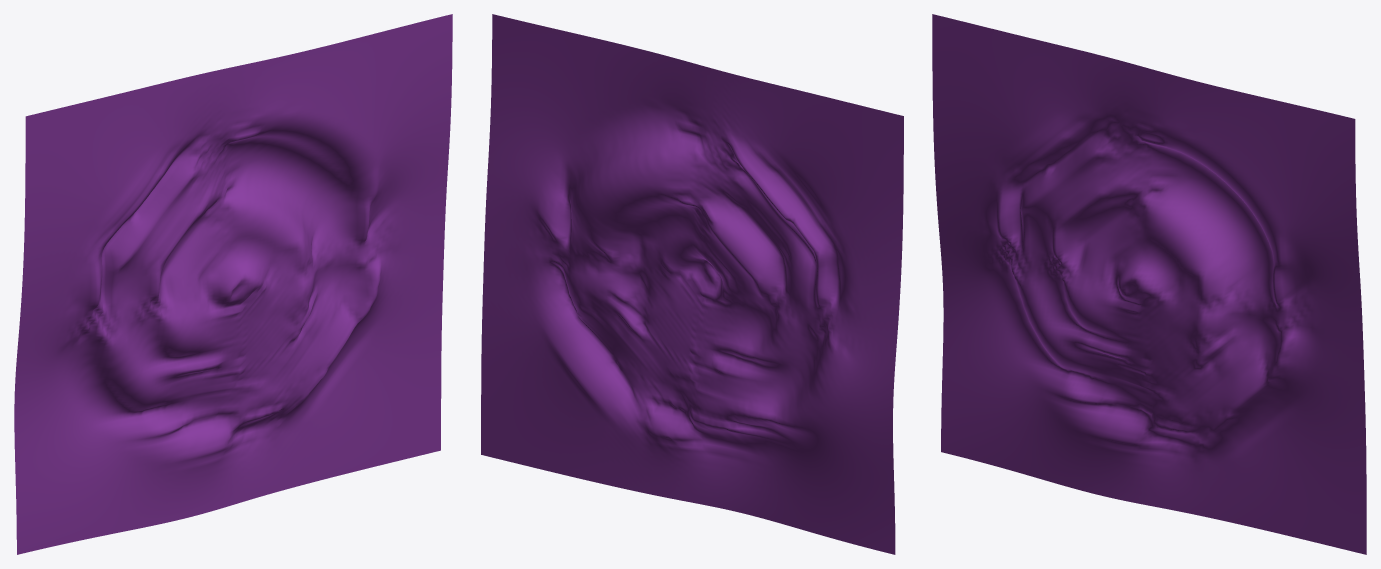
Rendered from droplet_SFL.glb.
The picture shows the model from 3 angles, left to right: view 1: azimuth 30°, elevation 25°; view 2: azimuth 150°, elevation 25°; view 3: azimuth 330°, elevation 25°; orthographic projection. The views are drawn at different scales.
Parts seen in each view (by area): view 1: main-sfl-droplet; view 2: main-sfl-droplet; view 3: main-sfl-droplet.
Part boxes in pixels (box(x1,y1,x2,y2)): main-sfl-droplet: box(14, 14, 452, 554); main-sfl-droplet: box(481, 14, 903, 554); main-sfl-droplet: box(932, 14, 1366, 554).
Size of the model in its own units: 1.25 by 1.25 by 0.143.
